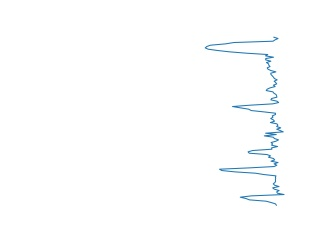distalBar: (202, 34, 283, 84)
interdistributaryEstuary: (229, 82, 286, 142)
underwaterNaturalLevee: (215, 142, 287, 209)
